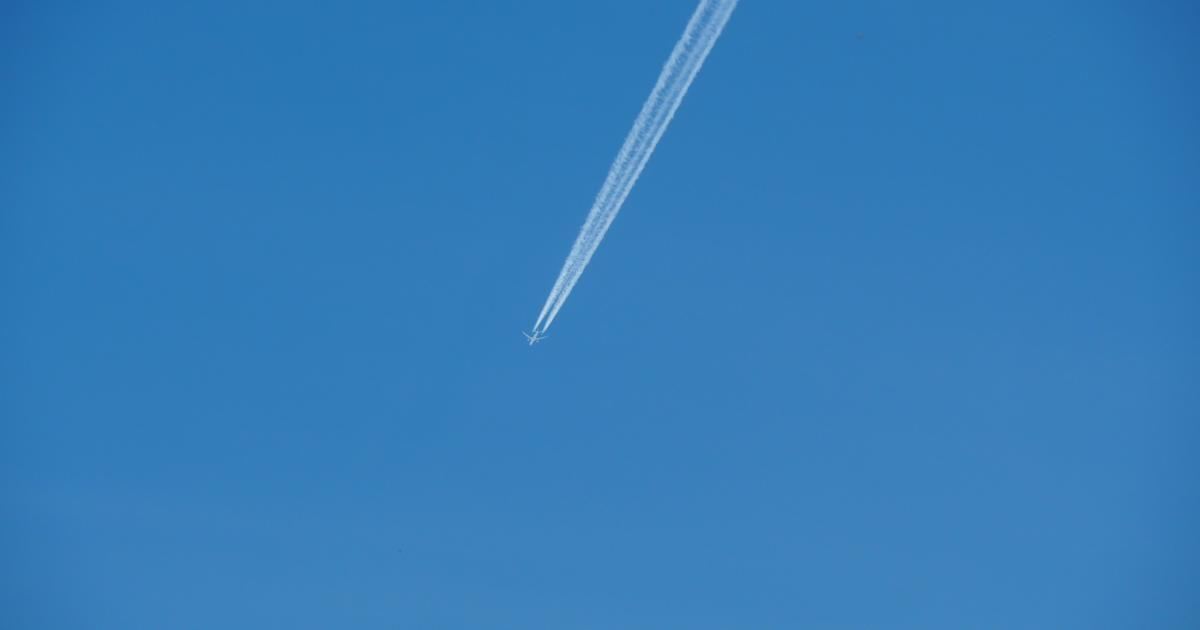Plane: (454, 0, 750, 402)
